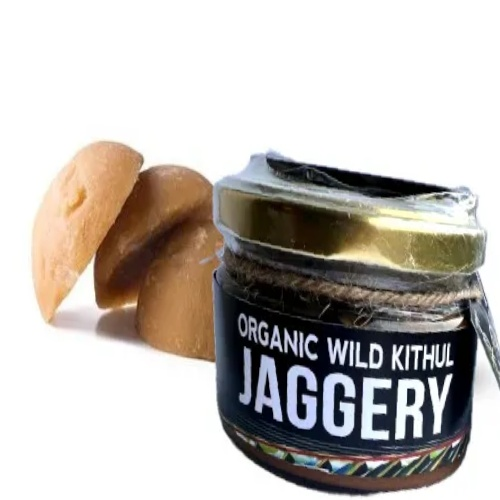hakuru: (30, 132, 144, 333), (93, 158, 212, 319)
